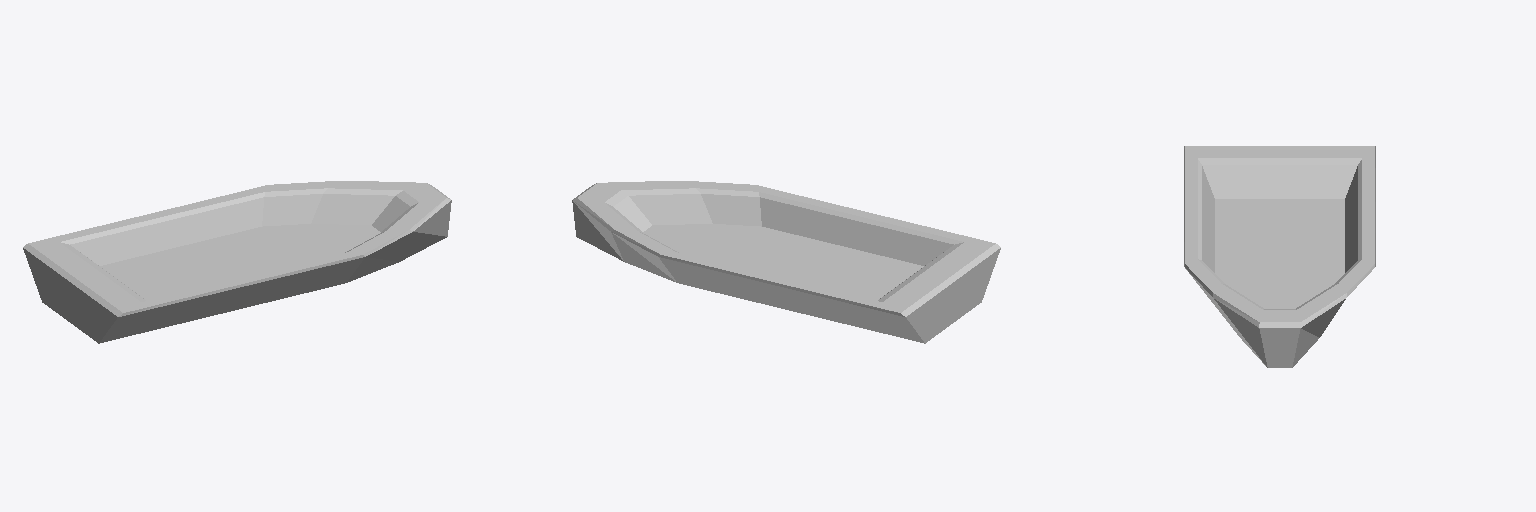
The model's file is boat.obj.
The picture shows the model from 3 angles: view 1: azimuth 30°, elevation 25°; view 2: azimuth 150°, elevation 25°; view 3: azimuth 270°, elevation 25°; orthographic projection.
Visible parts, largest first — view 1: Cube_Cube.001; view 2: Cube_Cube.001; view 3: Cube_Cube.001.
Boxes of the visible parts, box(x1,y1,x2,y2) form: Cube_Cube.001: box(23, 181, 451, 343); Cube_Cube.001: box(572, 181, 1000, 343); Cube_Cube.001: box(1184, 146, 1375, 367).
Size of the model in its own units: 23.51 by 2.63 by 10.48.